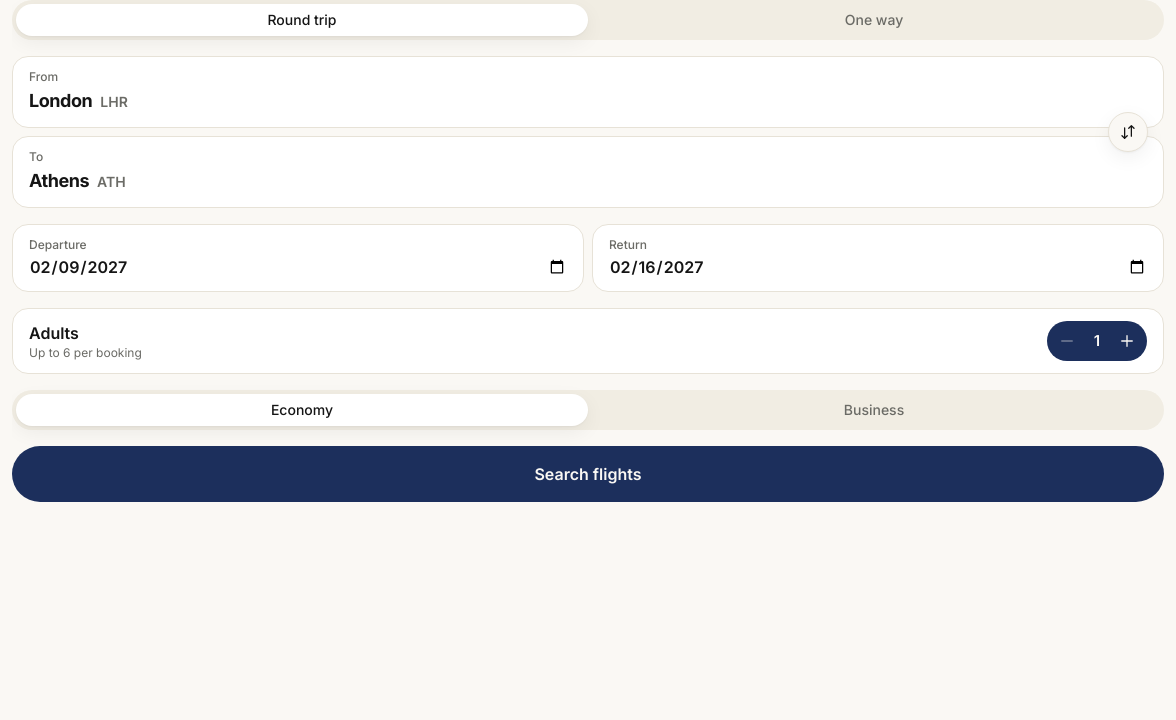
Test: SearchForm › shows an error for a departure date in the past
The width and height of the screenshot is (1176, 720).
Type "2027-01-01" into the date field labelled "Departure". click: [298, 267]
box: [29,255,567,279]
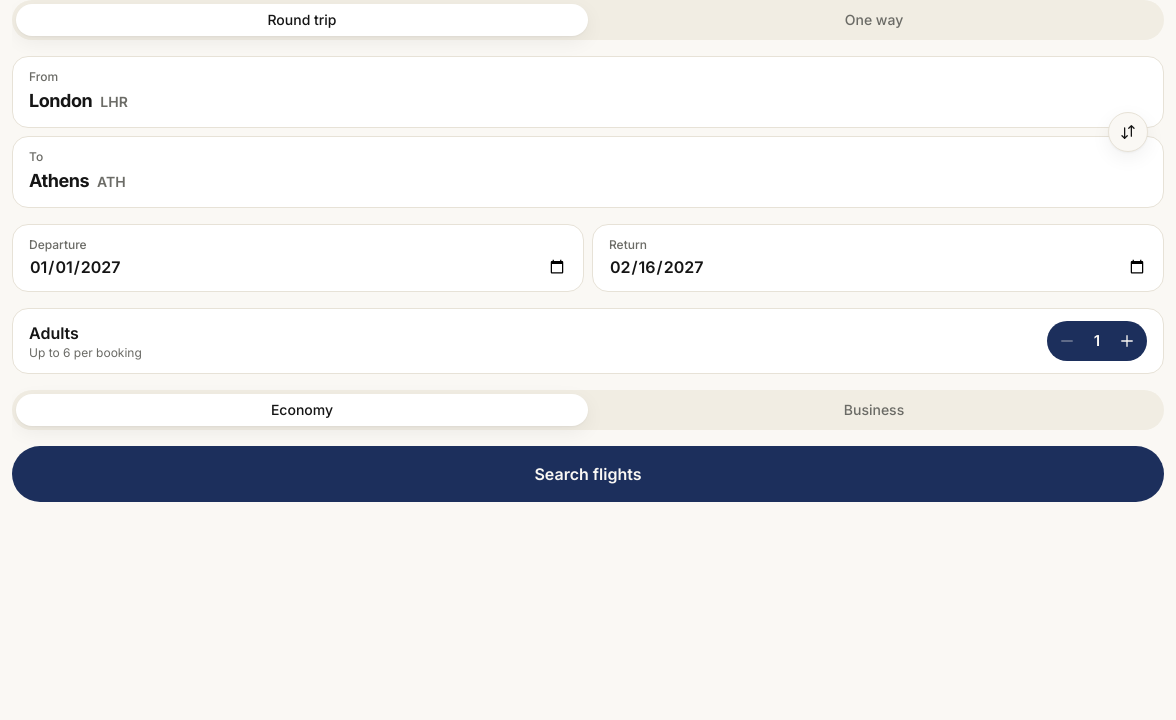
Type "2027-01-05" into the date field labelled "Return". click: [878, 267]
box: [609,255,1147,279]
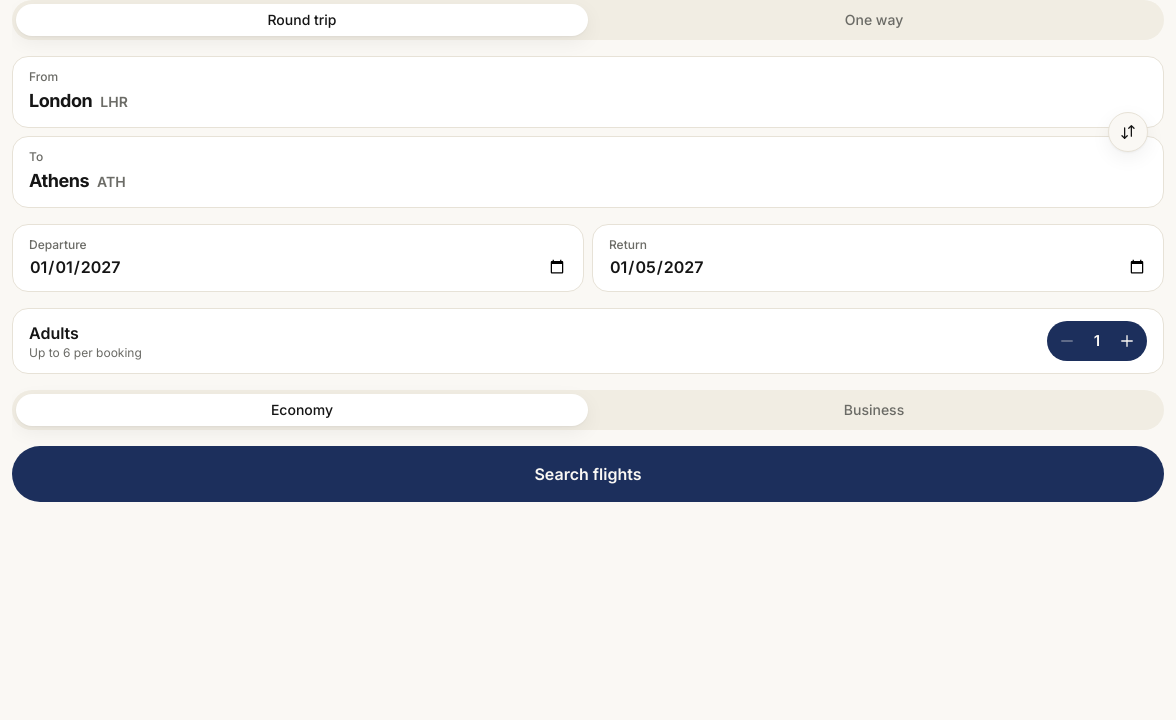
Click the button "Search flights". click: [588, 474]
box: [12,446,1164,502]
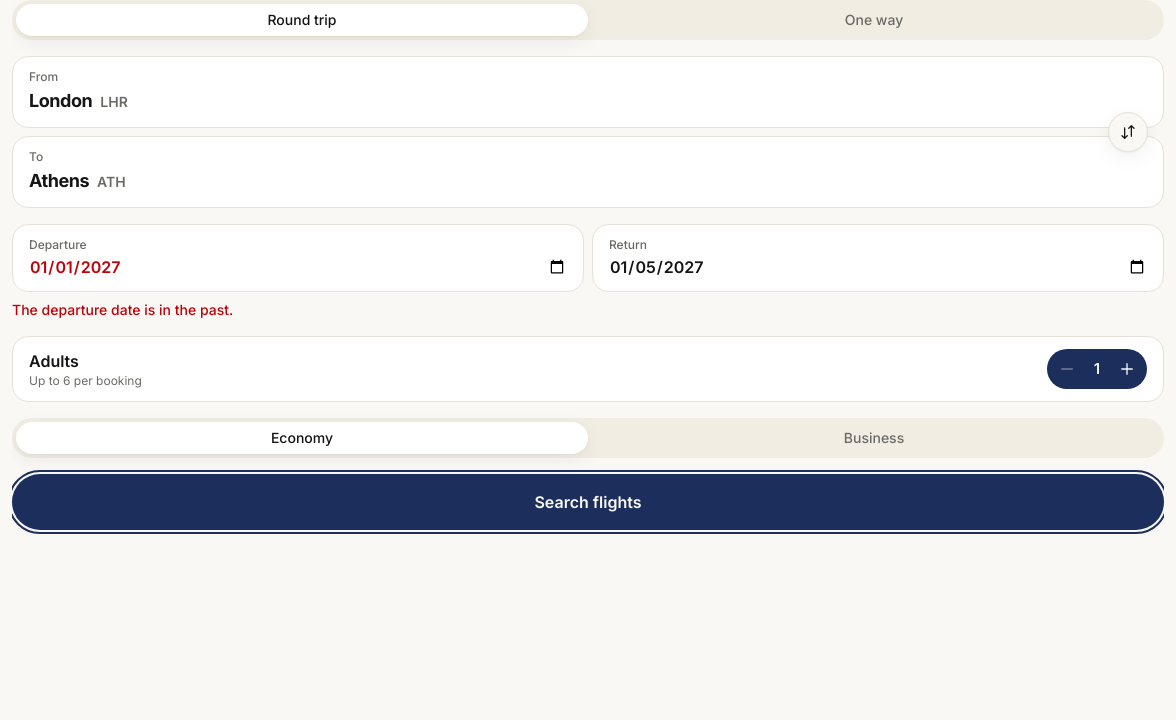
Expected: the message shows "in the past", [12,301,233,318]
